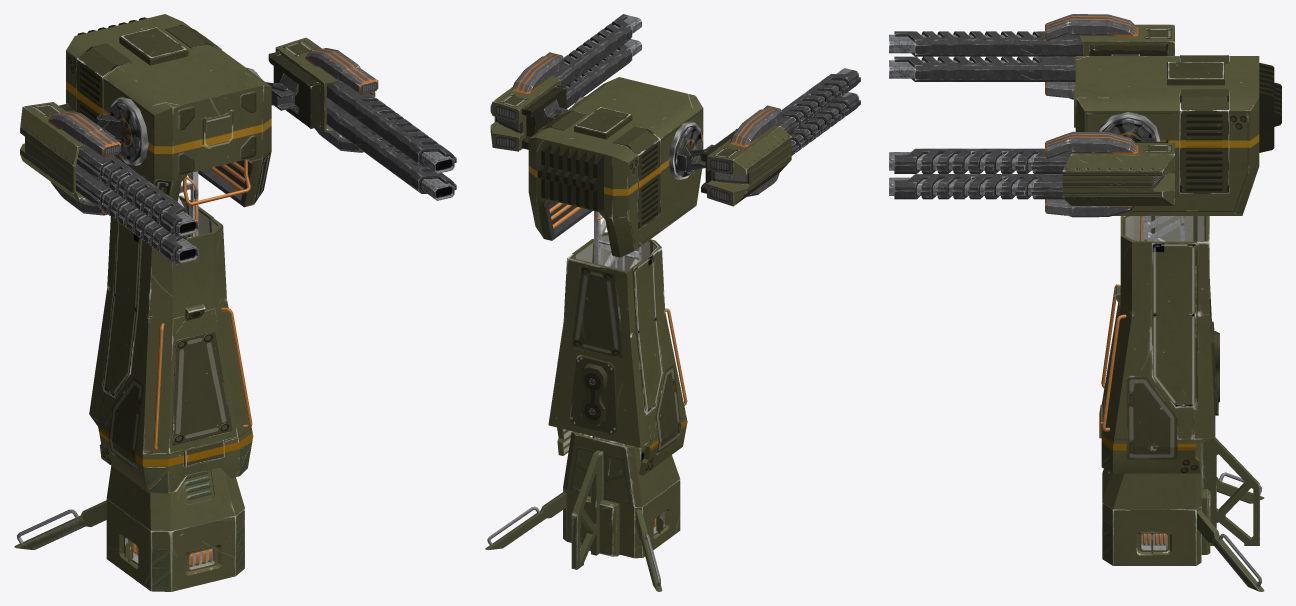
The model's file is turret_tower_10.fbx.
The picture shows the model from 3 angles, left to right: view 1: azimuth 30°, elevation 25°; view 2: azimuth 150°, elevation 25°; view 3: azimuth 270°, elevation 25°; orthographic projection. The views are drawn at different scales.
Visible parts, largest first — view 1: body (×3), head, barrels (×2), tower_base, tower_body_door_right, pipes (×2), tower_head_door_right, decor3, tower_leg, decor2 (×2), holder, tower_head_door_center (+3 smaller); view 2: body (×3), head, tower_base, barrels (×2), decor3, tower_leg, tower_body_door_right, tower_body_door_rear, tower_head_door_right, pipes (×2), body_frame, holder (+2 smaller); view 3: body (×3), barrels (×2), head, tower_base, tower_body_door_left, pipes (×2), tower_head_door_left, tower_leg, decor3, body_frame, holder, tower_body_door_right (+1 smaller).
Boxes of the visible parts, left/top/right/bottom form: body (×3): left=20, top=37, right=375, bottom=493; head: left=66, top=14, right=271, bottom=207; barrels (×2): left=76, top=82, right=456, bottom=264; tower_base: left=106, top=466, right=244, bottom=591; tower_body_door_right: left=102, top=221, right=141, bottom=397; pipes (×2): left=48, top=48, right=378, bottom=215; tower_head_door_right: left=76, top=43, right=132, bottom=123; decor3: left=77, top=17, right=188, bottom=65; tower_leg: left=14, top=500, right=106, bottom=549; decor2 (×2): left=109, top=67, right=298, bottom=165; holder: left=110, top=101, right=141, bottom=162; tower_head_door_center: left=202, top=110, right=233, bottom=148; body (×3): left=490, top=75, right=791, bottom=475; head: left=528, top=77, right=703, bottom=257; tower_base: left=563, top=431, right=680, bottom=558; barrels (×2): left=553, top=14, right=860, bottom=155; decor3: left=537, top=107, right=632, bottom=211; tower_leg: left=485, top=450, right=662, bottom=591; tower_body_door_right: left=632, top=253, right=663, bottom=412; tower_body_door_rear: left=569, top=355, right=618, bottom=434; tower_head_door_right: left=613, top=126, right=660, bottom=230; pipes (×2): left=512, top=52, right=782, bottom=196; body_frame: left=594, top=211, right=641, bottom=460; holder: left=674, top=125, right=702, bottom=177; body (×3): left=1062, top=24, right=1215, bottom=473; barrels (×2): left=889, top=31, right=1082, bottom=199; head: left=1075, top=56, right=1259, bottom=215; tower_base: left=1102, top=442, right=1210, bottom=565; tower_body_door_left: left=1152, top=241, right=1196, bottom=407; pipes (×2): left=1045, top=14, right=1138, bottom=217; tower_head_door_left: left=1180, top=89, right=1228, bottom=193; tower_leg: left=1197, top=437, right=1264, bottom=591; decor3: left=1167, top=62, right=1281, bottom=152; body_frame: left=1140, top=216, right=1184, bottom=241; holder: left=1102, top=117, right=1155, bottom=141; tower_body_door_right: left=1152, top=216, right=1196, bottom=241.
Bounding box in the file's own units: 9.99 × 15.97 × 11.99.
